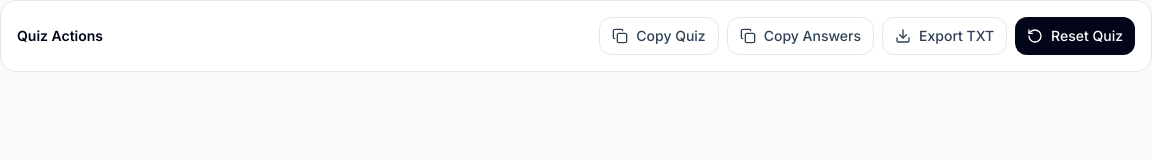
Test: QuizActionBar › exports txt file
This screenshot has width=1152, height=160.
Click the button "Export TXT": (944, 36) left=882, top=17, right=1007, bottom=55
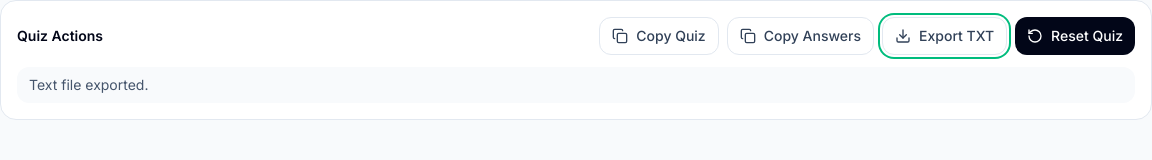
Check: the message with test id "quiz-action-status" reads "Text file exported.", box left=29, top=76, right=148, bottom=93
